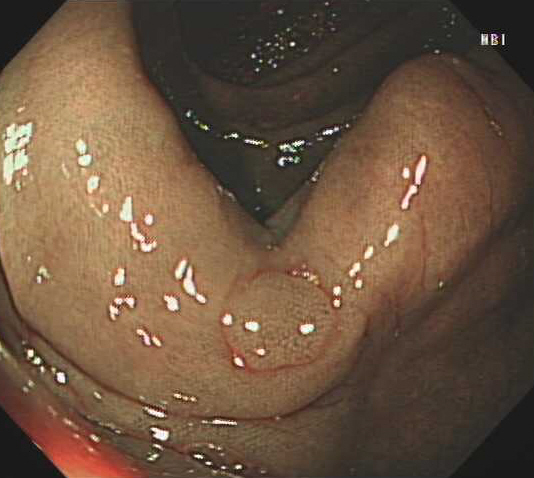others: (218, 268, 339, 374)
